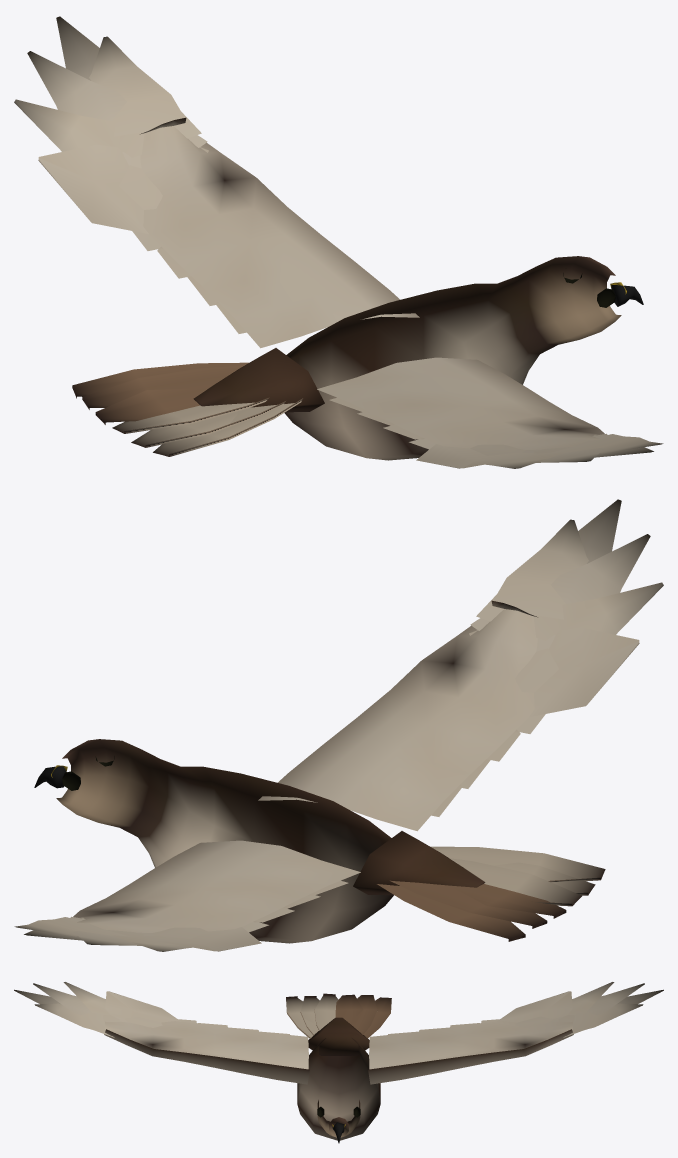
The model's file is SM_Bird_buzzard_flap1_LOD1.glb.
3 views of the same model, one above another, from view 1: azimuth 30°, elevation 25°; view 2: azimuth 150°, elevation 25°; view 3: azimuth 270°, elevation 25° (orthographic). The views are drawn at different scales.
Visible parts, largest first — view 1: SM_Bird_buzzard_flap1_LOD1; view 2: SM_Bird_buzzard_flap1_LOD1; view 3: SM_Bird_buzzard_flap1_LOD1.
Part boxes in pixels (x1,y1,x2,y2): SM_Bird_buzzard_flap1_LOD1: (14, 16, 663, 468); SM_Bird_buzzard_flap1_LOD1: (14, 499, 663, 951); SM_Bird_buzzard_flap1_LOD1: (14, 982, 663, 1143).
Size of the model in its own units: 0.5874 by 0.2477 by 1.13.
